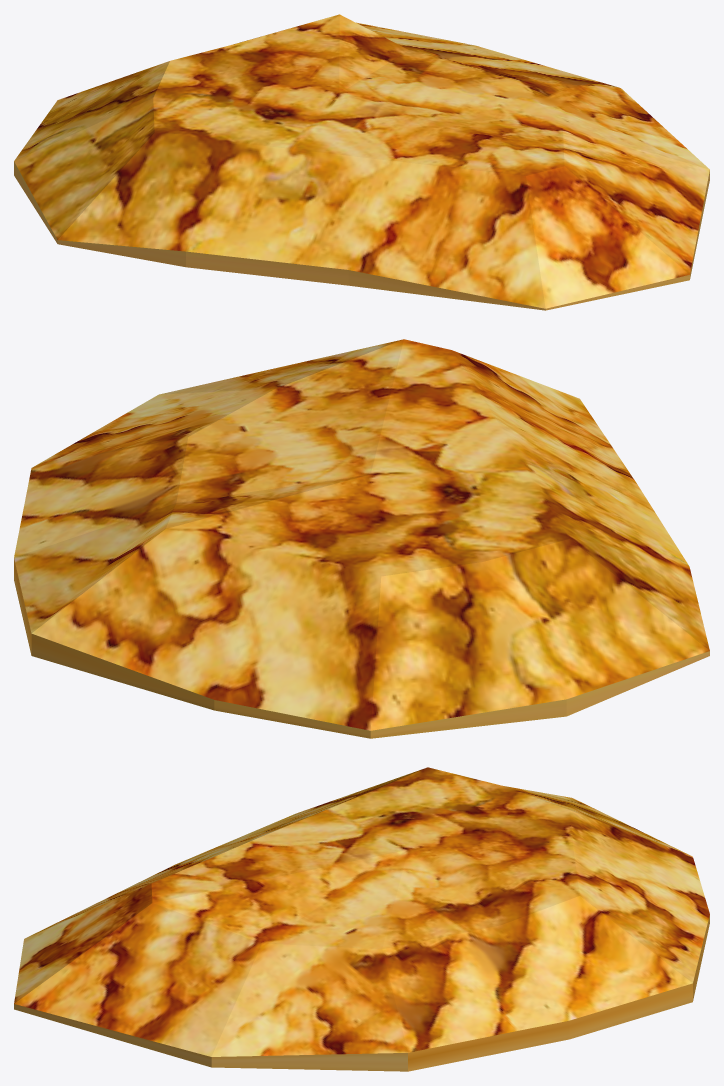
The model's file is f_ZigzagFries_loose.fbx.
3 views of the same model, one above another, from view 1: azimuth 30°, elevation 25°; view 2: azimuth 150°, elevation 25°; view 3: azimuth 270°, elevation 25° (orthographic). The views are drawn at different scales.
Parts seen in each view (by area): view 1: Cylinder; view 2: Cylinder; view 3: Cylinder.
Part boxes in pixels (x1,y1,x2,y2): Cylinder: (14,14,709,310); Cylinder: (14,339,709,738); Cylinder: (14,767,709,1071).
Size of the model in its own units: 38.46 by 36.33 by 5.05.
